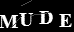D: (37, 10, 54, 25)
E: (58, 13, 73, 28)
M: (1, 14, 18, 29)
U: (18, 12, 34, 27)
